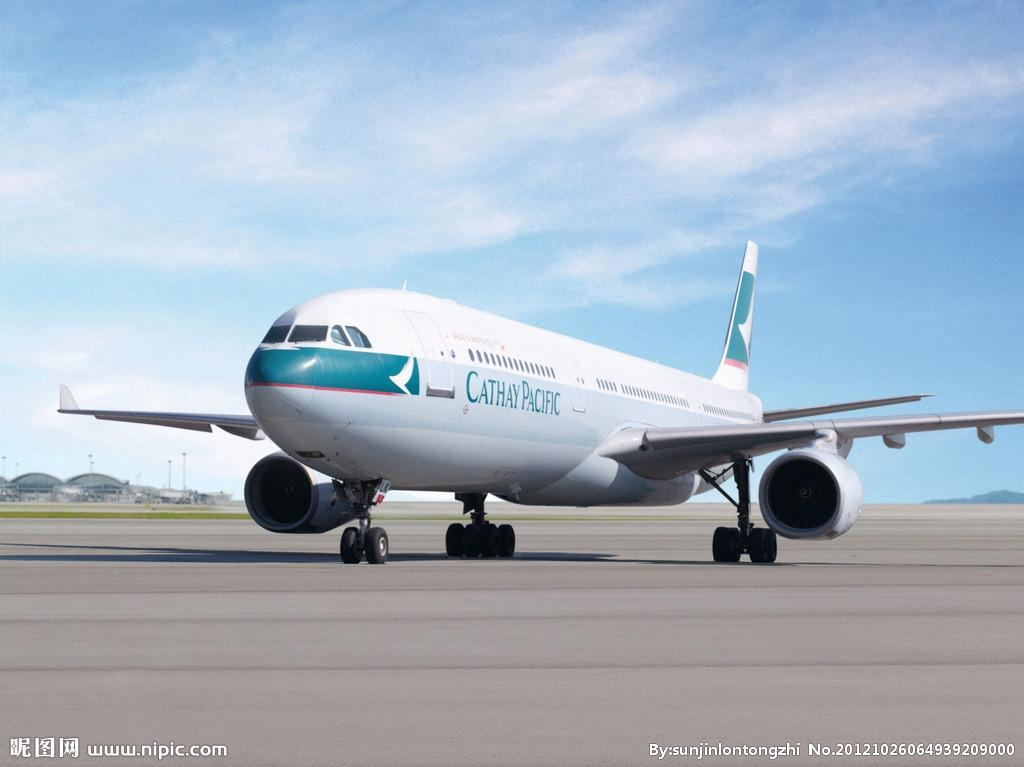airplane: (45, 233, 1023, 569)
